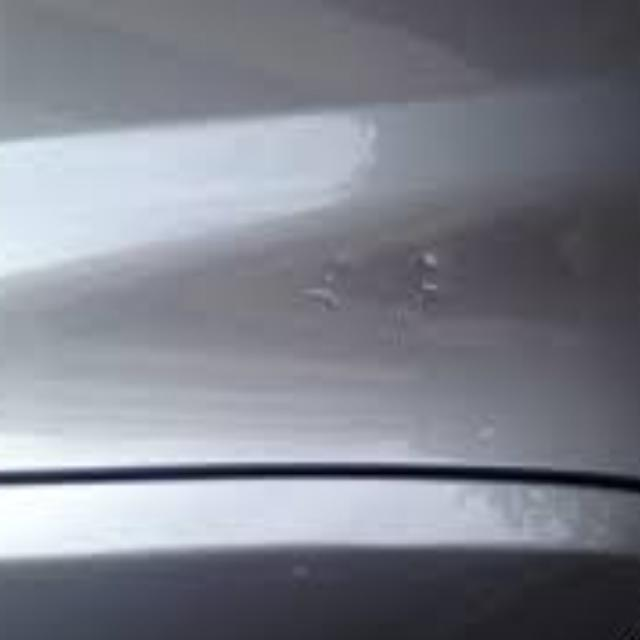dents: (306, 226, 360, 330), (406, 229, 454, 334)
